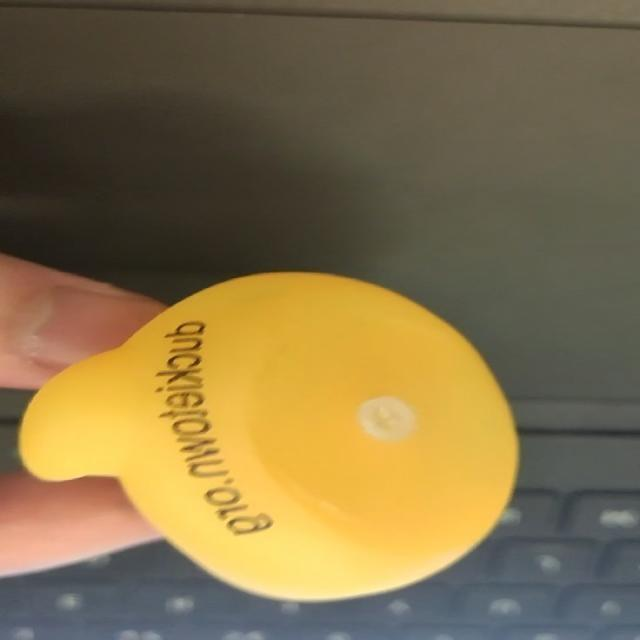rubber-duck: (19, 271, 516, 598)
